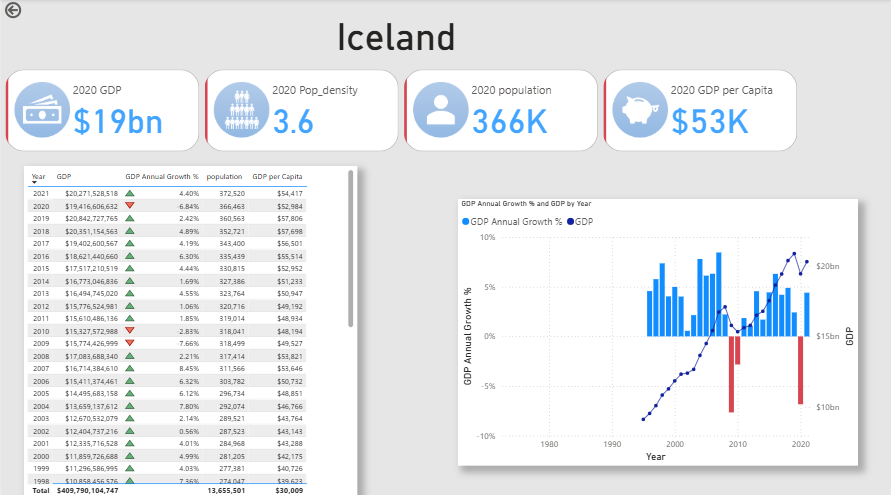

The page's visual inventory and layout, read from the dashboard file:
{"tool":"powerbi","page":{"name":"Country Detail","canvas":[1280,720],"ordinal":1},"visuals":[{"type":"actionButton","box":[0,0,64,32],"z":0},{"type":"tableEx","fields":{"Values":["Indicators.Year","_Measures.GDP","_Measures.GDP Annual Growth %","_Measures.population","_Measures.GDP per Capita"]},"box":[32,240,480,480],"z":1000},{"type":"lineStackedColumnComboChart","fields":{"Category":["Indicators.Year"],"Y":["_Measures.GDP Annual Growth %"],"Y2":["_Measures.GDP"]},"box":[656,288,576,384],"z":2000},{"type":"card","fields":{"Values":["_Measures.Selected Country"]},"box":[160,0,816,96],"z":3000},{"type":"cardVisual","fields":{"Data":["_Measures.2020 GDP","_Measures.2020 Pop_density","_Measures.2020 population","_Measures.2020 GDP per Capita"]},"box":[0,96,1152,128],"z":4000}]}

Visuals, with their boxes on the page's 1280x720 design canvas (x1, y1, x2, y2). These are canvas units, not pixel positions in the 891x495 screenshot, which may show the page scaled, cropped or inside an application window:
actionButton: select_region(0, 0, 64, 32)
tableEx - Indicators.Year x _Measures.GDP: select_region(32, 240, 512, 720)
lineStackedColumnComboChart - Indicators.Year x _Measures.GDP Annual Growth %: select_region(656, 288, 1232, 672)
card - _Measures.Selected Country: select_region(160, 0, 976, 96)
cardVisual - _Measures.2020 GDP x _Measures.2020 Pop_density: select_region(0, 96, 1152, 224)
